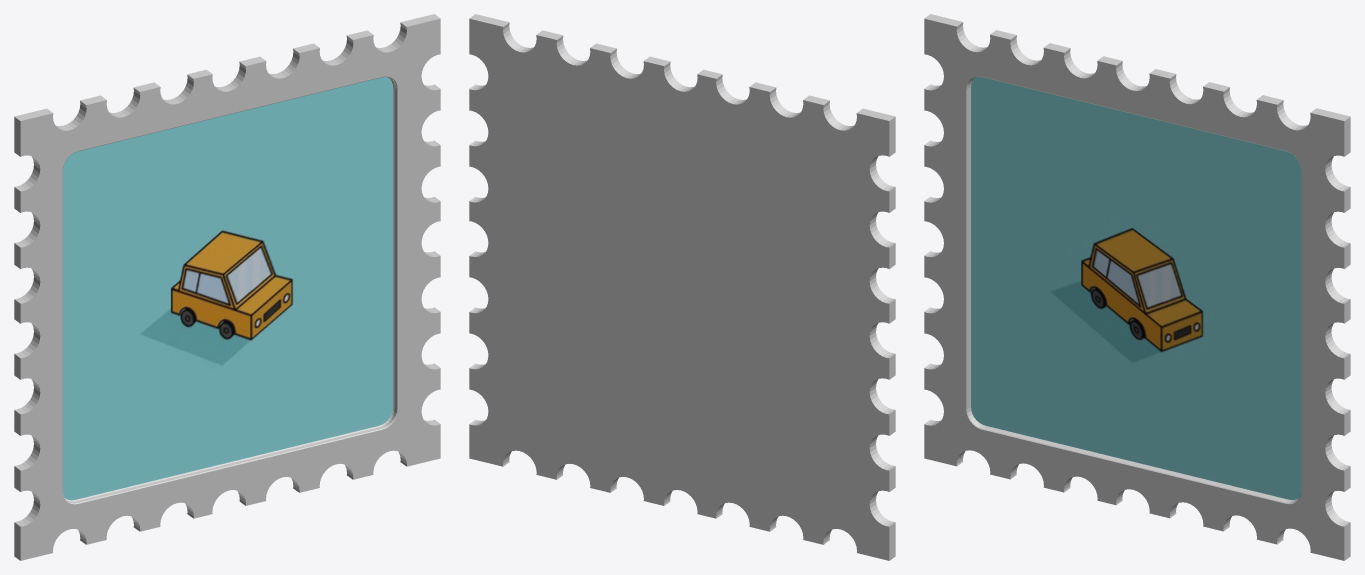
Rendered from B_Olivia_22.glb.
The picture shows the model from 3 angles, left to right: view 1: azimuth 30°, elevation 25°; view 2: azimuth 150°, elevation 25°; view 3: azimuth 330°, elevation 25°; orthographic projection.
Parts seen in each view (by area): view 1: Plane027, Plane026; view 2: Plane026; view 3: Plane027, Plane026.
Part boxes in pixels (x1,y1,x2,y2): Plane027: (63, 77, 393, 500); Plane026: (14, 14, 440, 560); Plane026: (469, 14, 895, 560); Plane027: (971, 77, 1301, 499); Plane026: (924, 14, 1350, 560).
Bounding box in the file's own units: 0.3 × 0.3 × 0.00781.
Materials: 2 (1 with a texture image).
